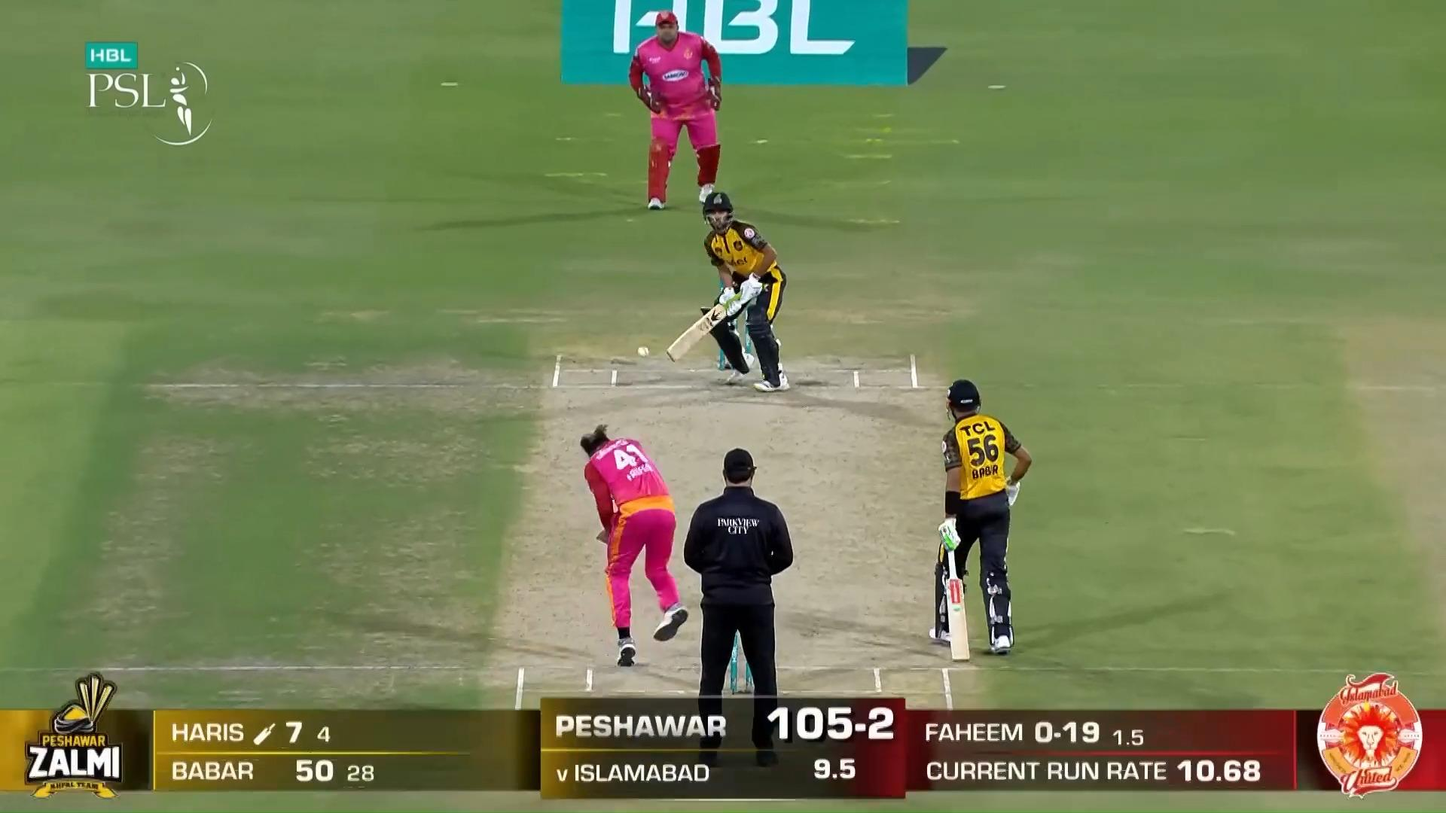batsman: (667, 190, 791, 393)
